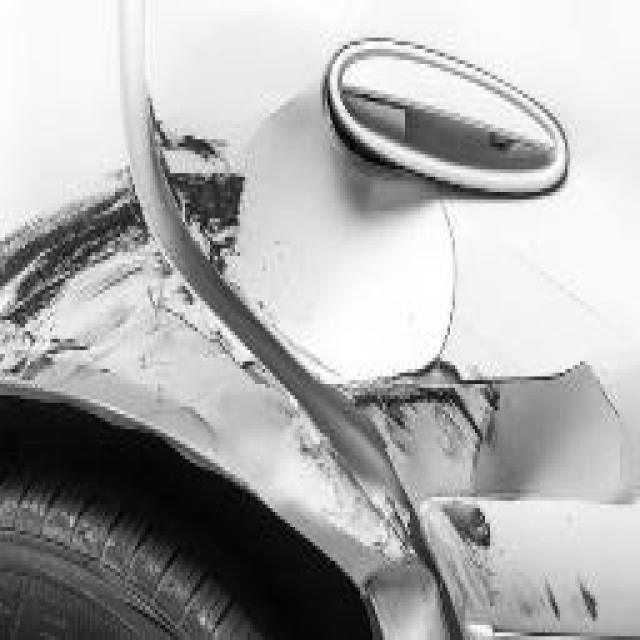Door: (119, 34, 640, 640)
Fender: (0, 118, 450, 640)
